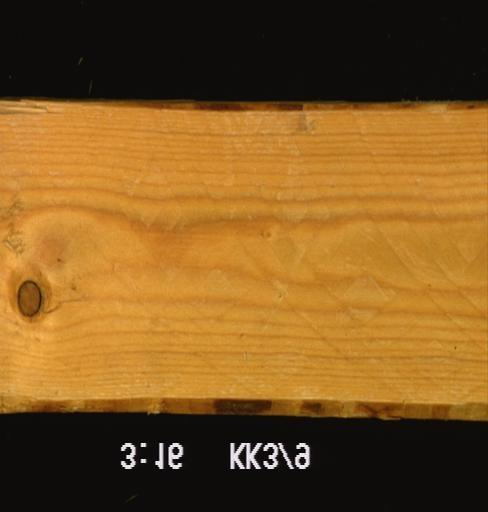dry_knot: (14, 278, 42, 318)
wave: (0, 388, 487, 420), (0, 96, 487, 126)
